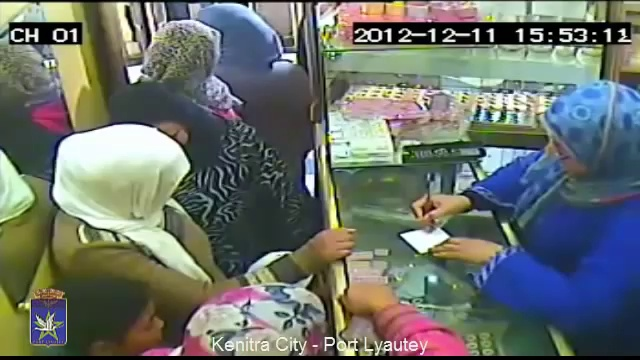face: (119, 307, 164, 348)
